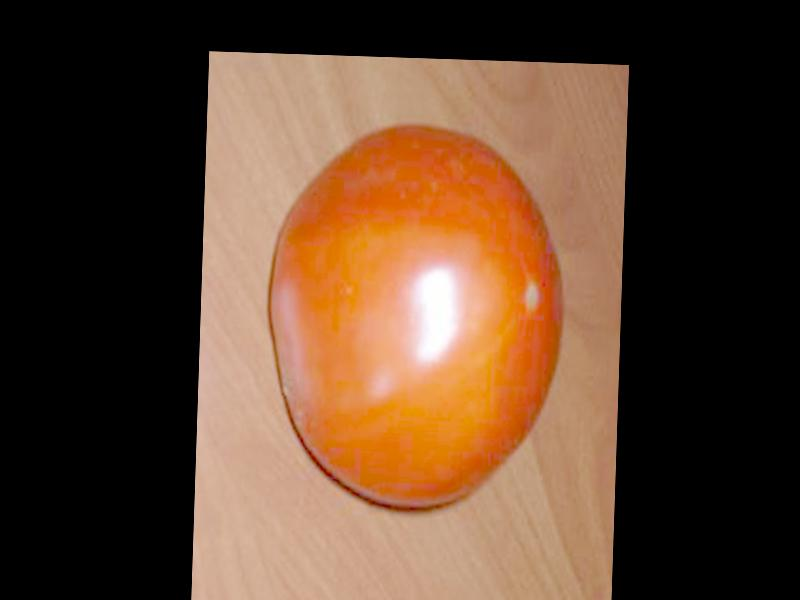Tomato: (264, 116, 570, 517)
